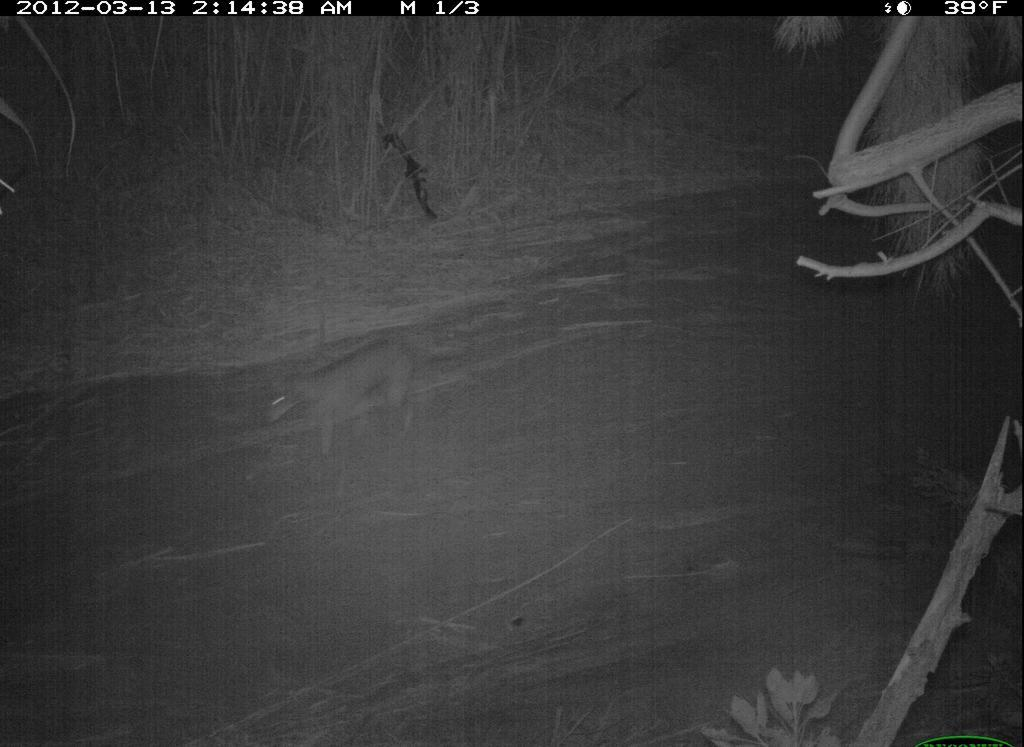coyote: (264, 337, 481, 470)
